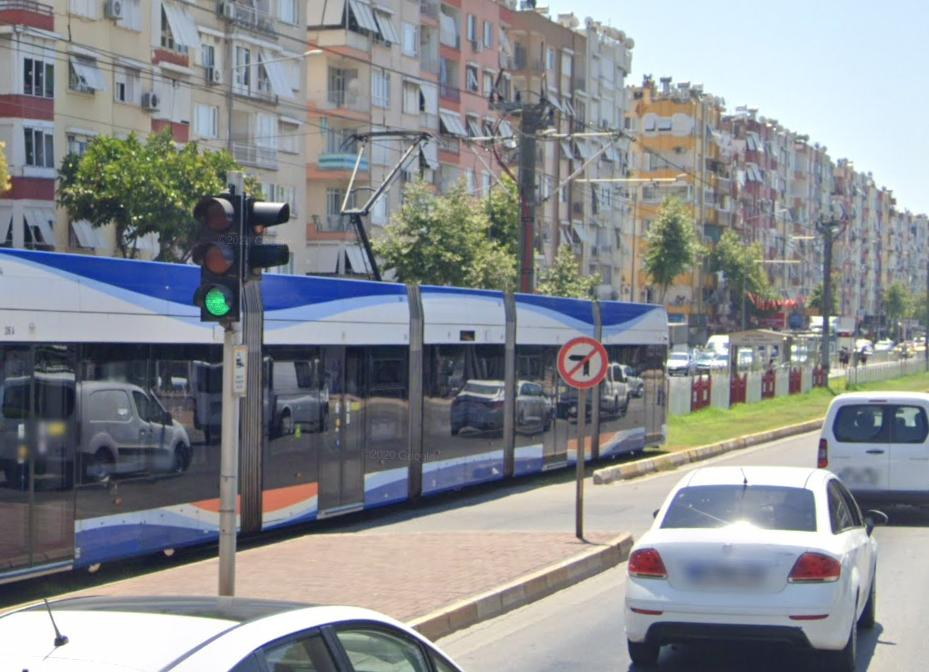greenlight: (194, 198, 241, 326)
leftturnsareforbidden: (558, 337, 605, 389)
